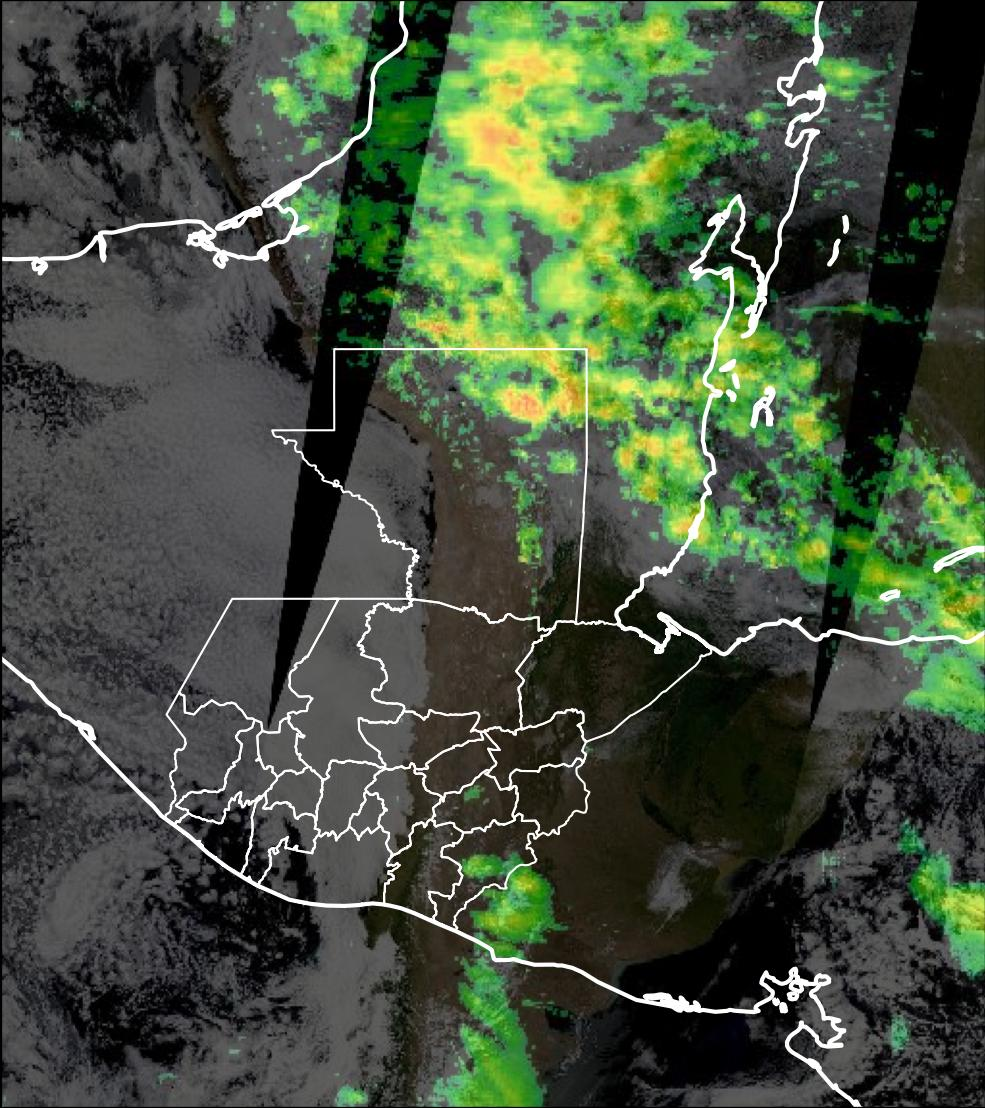precipitacion: (469, 354, 584, 431)
